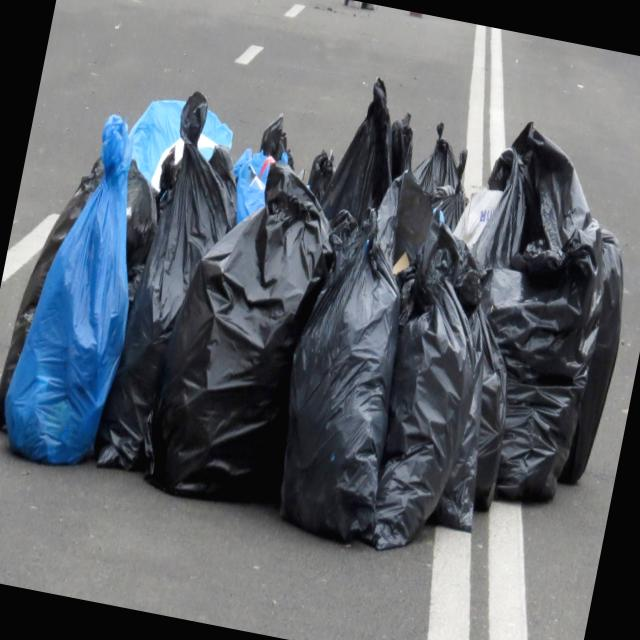garbage: (0, 7, 640, 585)
